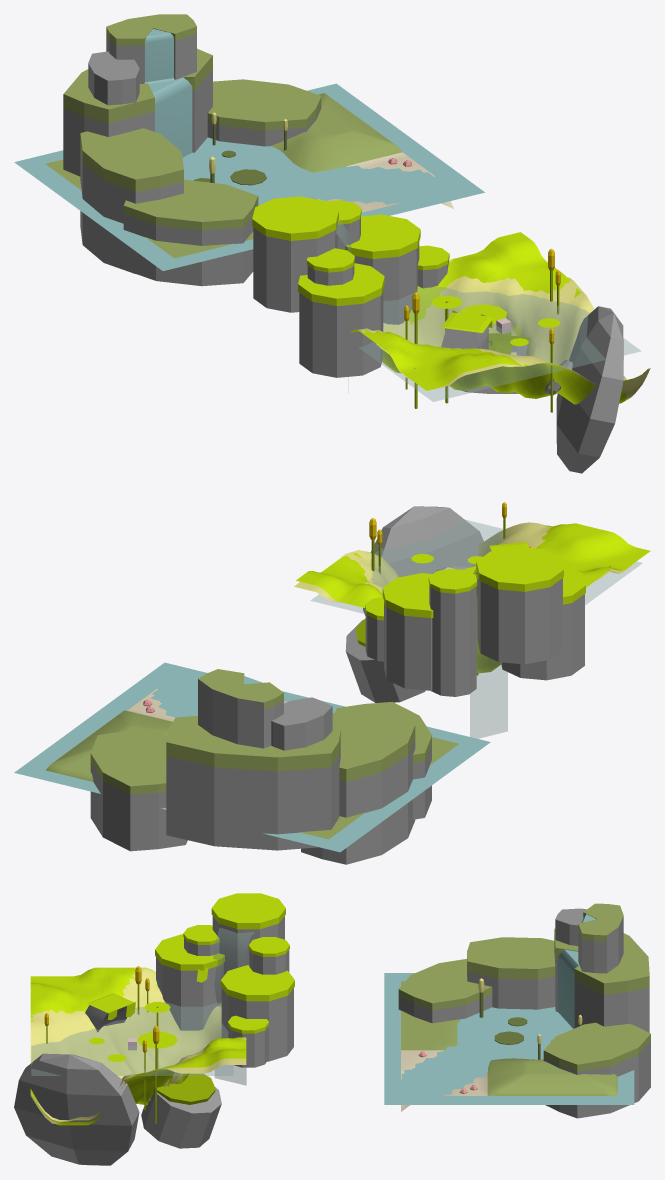
Rendered from GW_BLOCKING.fbx.
3 renders of one model, top to bottom at view 1: azimuth 30°, elevation 25°; view 2: azimuth 150°, elevation 25°; view 3: azimuth 270°, elevation 25°, orthographic. The views are drawn at different scales.
Parts seen in each view (by area): view 1: GW_BLOCKING; view 2: GW_BLOCKING; view 3: GW_BLOCKING.
Part boxes in pixels (x1,y1,x2,y2): GW_BLOCKING: [14, 14, 650, 473]; GW_BLOCKING: [14, 502, 650, 864]; GW_BLOCKING: [14, 893, 650, 1165].
Size of the model in its own units: 169 by 121 by 345.
